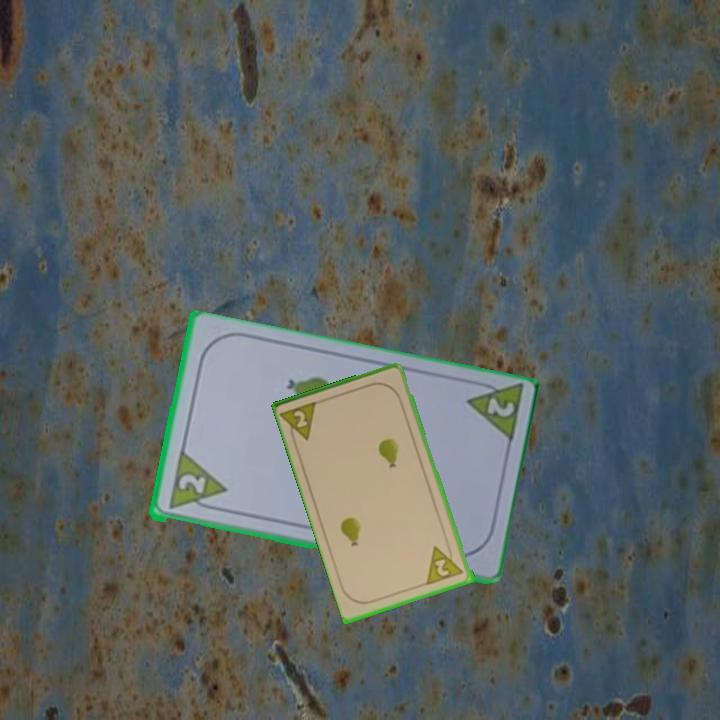2p: (164, 450, 229, 515), (424, 539, 468, 588), (482, 394, 517, 421), (290, 407, 311, 431)
